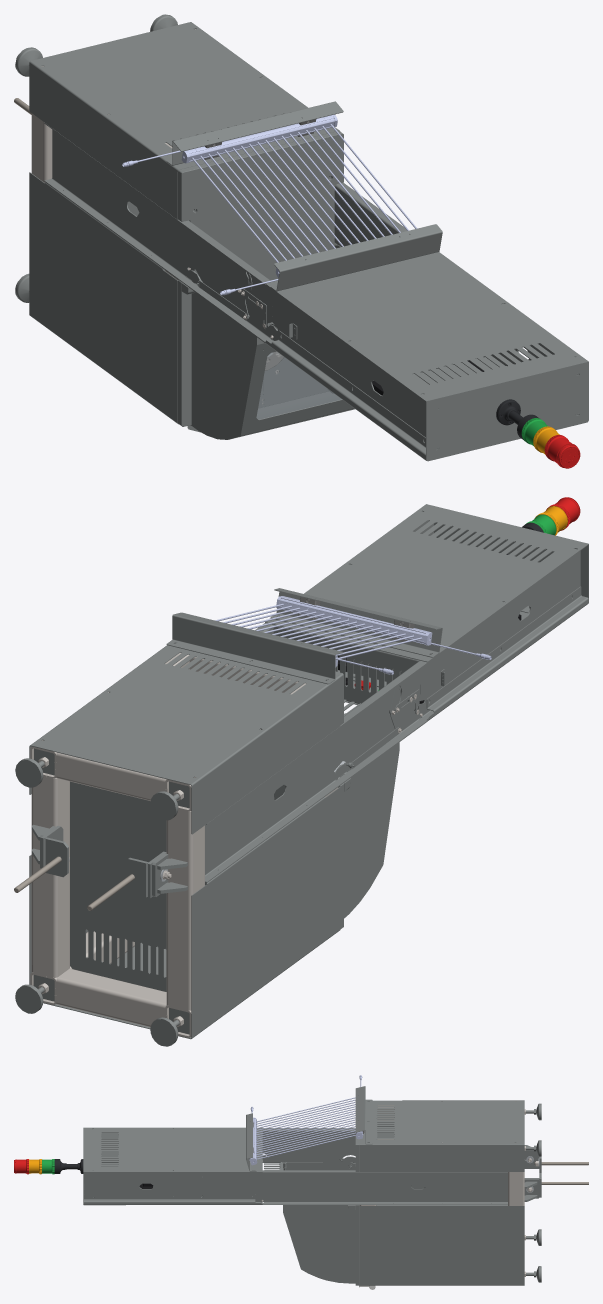
Rendered from flexmix-exchange-station.glb.
The picture shows the model from 3 angles, top to bottom: view 1: azimuth 30°, elevation 25°; view 2: azimuth 150°, elevation 25°; view 3: azimuth 270°, elevation 25°; orthographic projection. The views are drawn at different scales.
Parts seen in each view (by area): view 1: body_mesh; view 2: body_mesh; view 3: body_mesh.
Boxes of the visible parts, bbox=[...] form: body_mesh: bbox=[14, 14, 588, 468]; body_mesh: bbox=[14, 497, 588, 1046]; body_mesh: bbox=[14, 1075, 588, 1289].
Bounding box in the file's own units: 665 × 898 × 2751.
